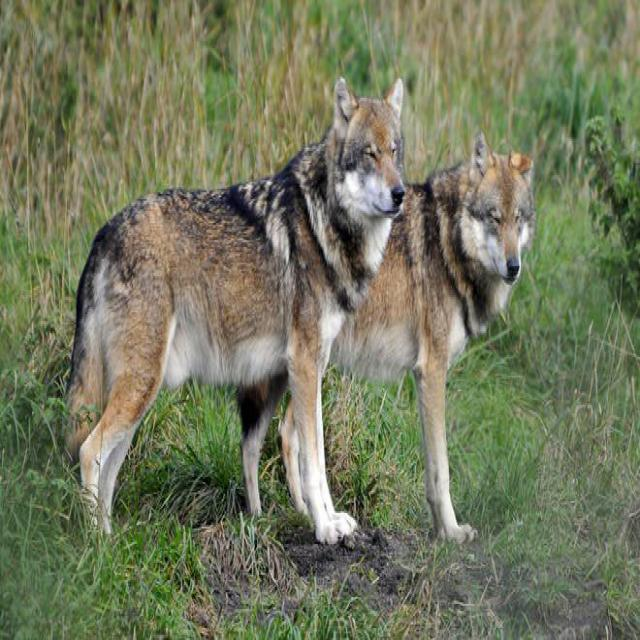wolf: (68, 77, 408, 540), (331, 134, 533, 540)
